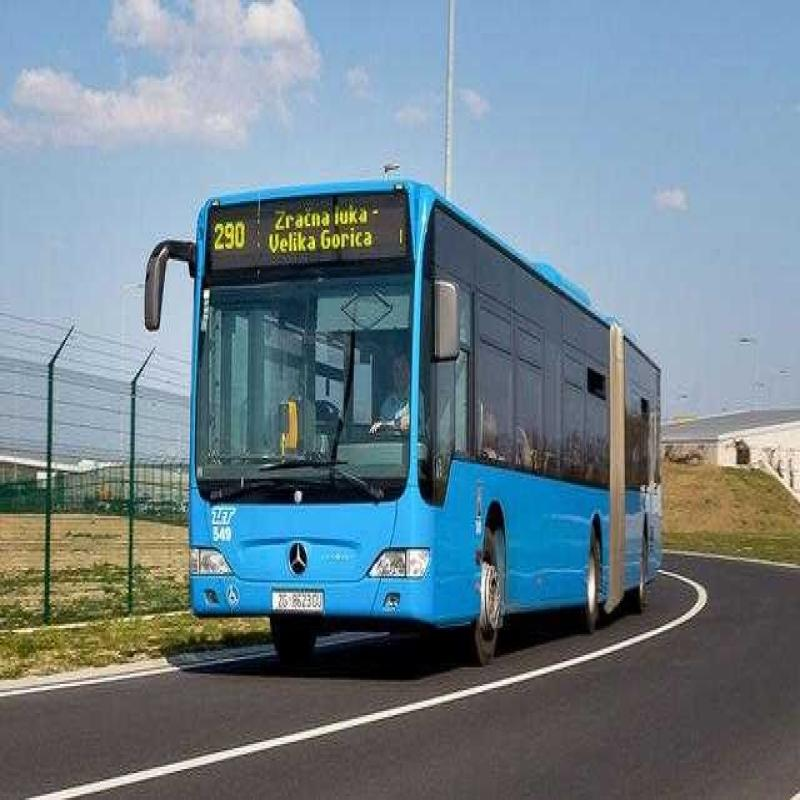bus: (148, 161, 686, 698)
